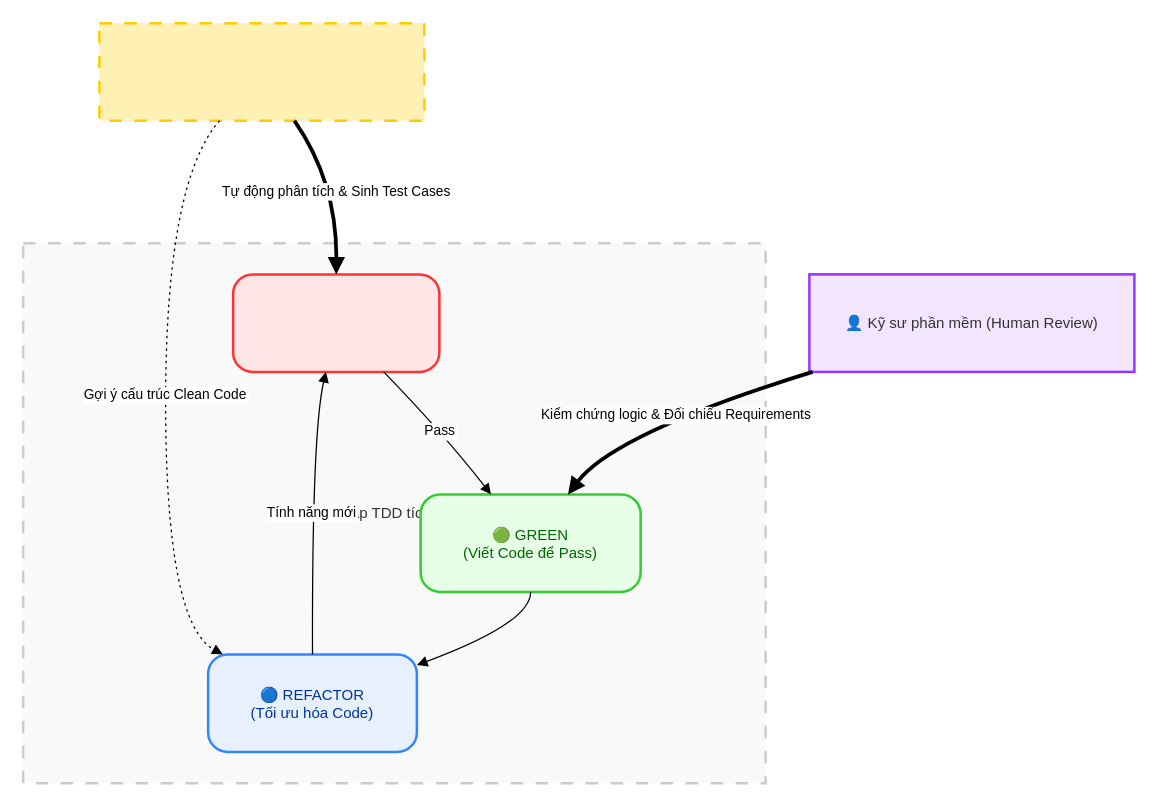
The diagram is 1156 pixels wide and 805 high, and some of its shapes have lost their labels. Each missing label, with the centre of its shape:
"🔴 RED (Viết Test báo lỗi)" belongs at pixel 335 322.
"🤖 GenAI (ChatGPT / Copilot)" belongs at pixel 261 71.
